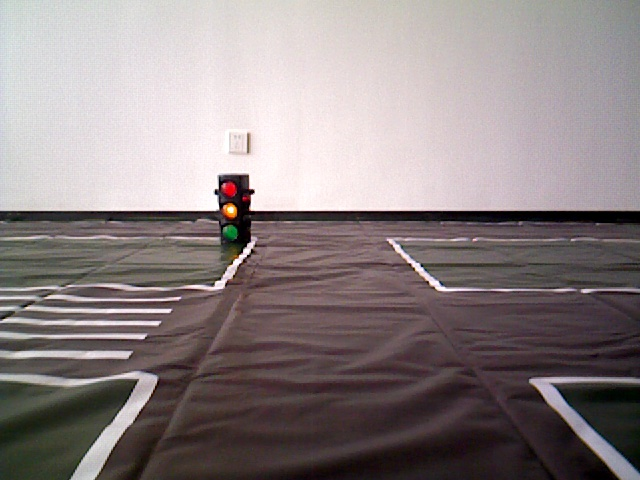yellow: (216, 172, 252, 248)
